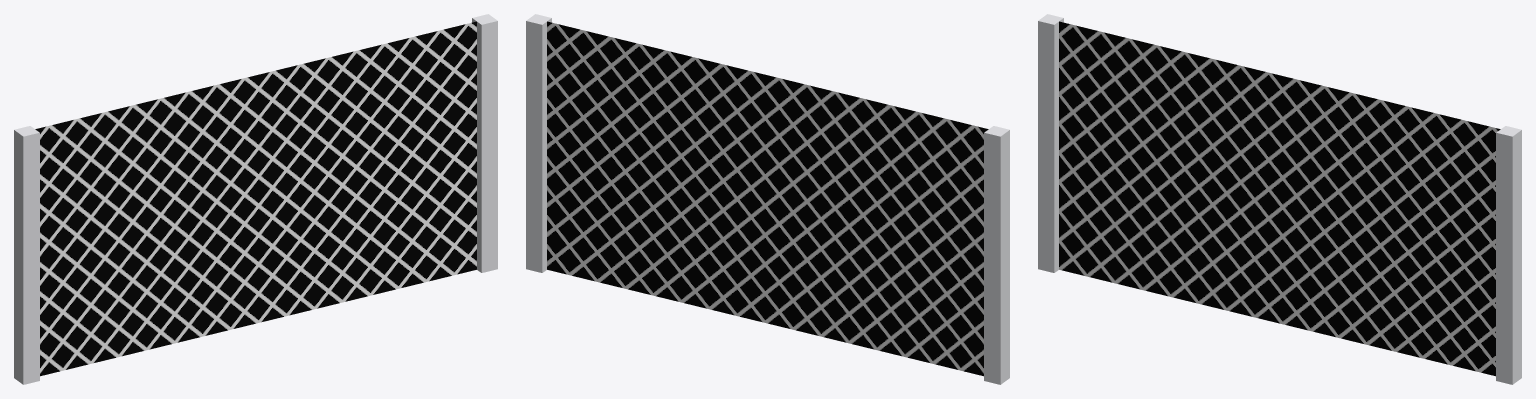
Rendered from fenceStraight.glb.
3 renders of one model, left to right at view 1: azimuth 30°, elevation 25°; view 2: azimuth 150°, elevation 25°; view 3: azimuth 330°, elevation 25°, orthographic.
Parts seen in each view (by area): view 1: fenceStraight(Clone); view 2: fenceStraight(Clone); view 3: fenceStraight(Clone).
Boxes of the visible parts, x1,y1,x2,y2 form: fenceStraight(Clone): (14,14,497,384); fenceStraight(Clone): (526,14,1009,384); fenceStraight(Clone): (1038,14,1521,384).
Size of the model in its own units: 1 by 0.5 by 0.0345.
Materials: 2 (1 with a texture image).
